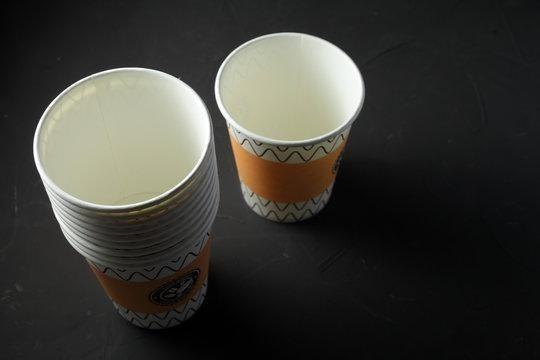cup-disposable: (31, 64, 223, 331), (213, 28, 368, 224)
